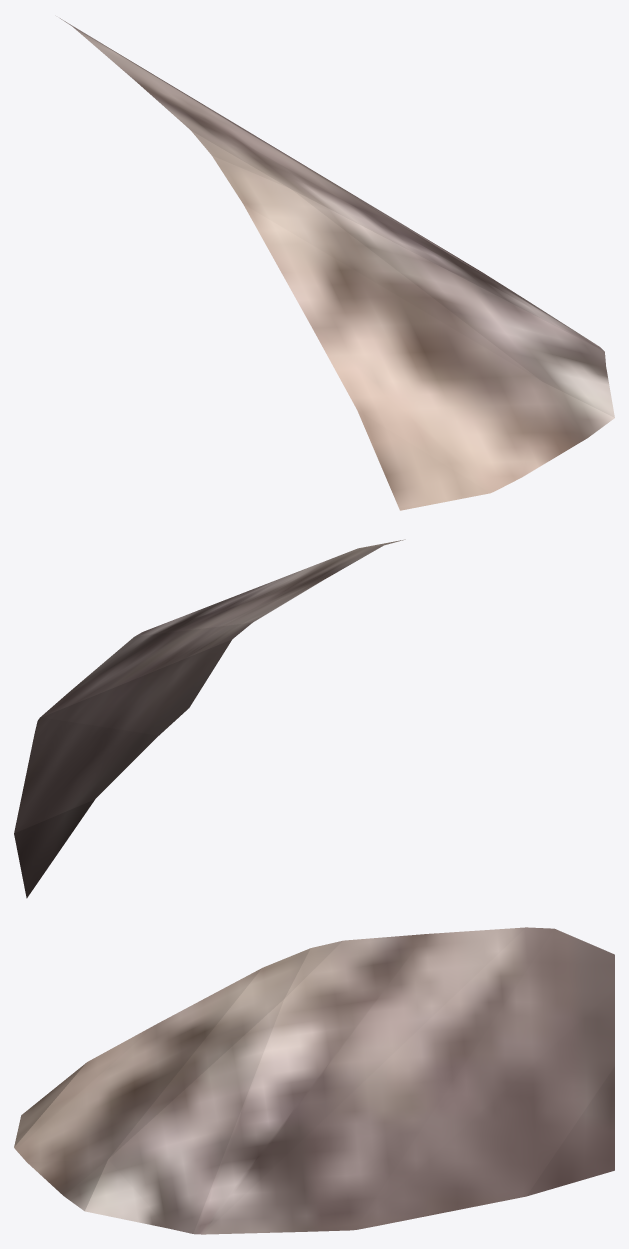
The picture shows the model from 3 angles, top to bottom: view 1: azimuth 30°, elevation 25°; view 2: azimuth 150°, elevation 25°; view 3: azimuth 270°, elevation 25°; orthographic projection. The views are drawn at different scales.
Size of the model in its own units: 0.0658 by 0.0483 by 0.1401.
Materials: 1 (1 with a texture image).
